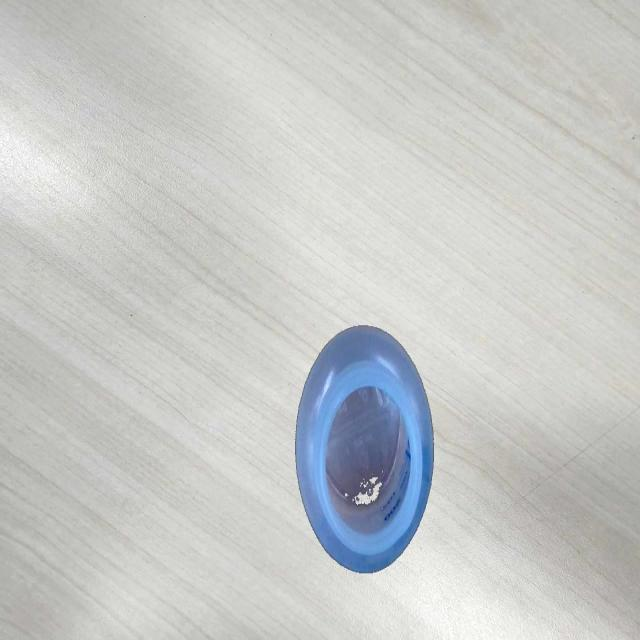bottle: (291, 318, 436, 583)
